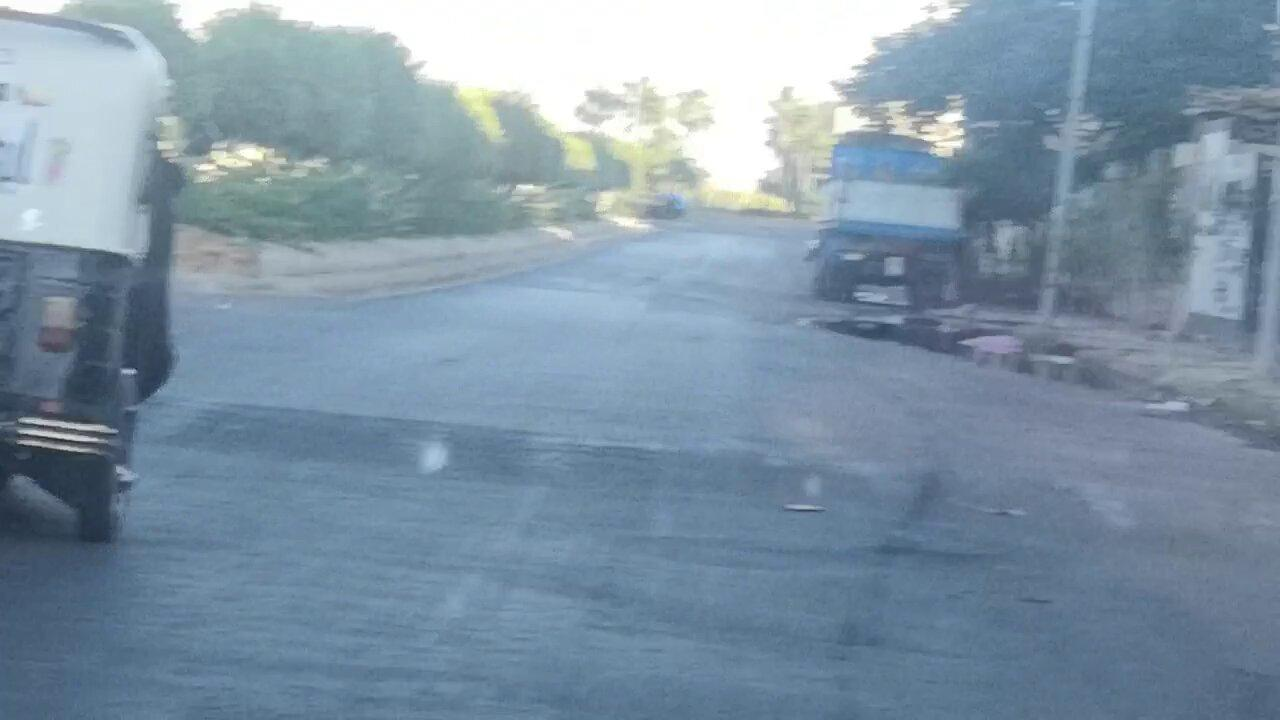Bump: (143, 395, 1280, 558)
